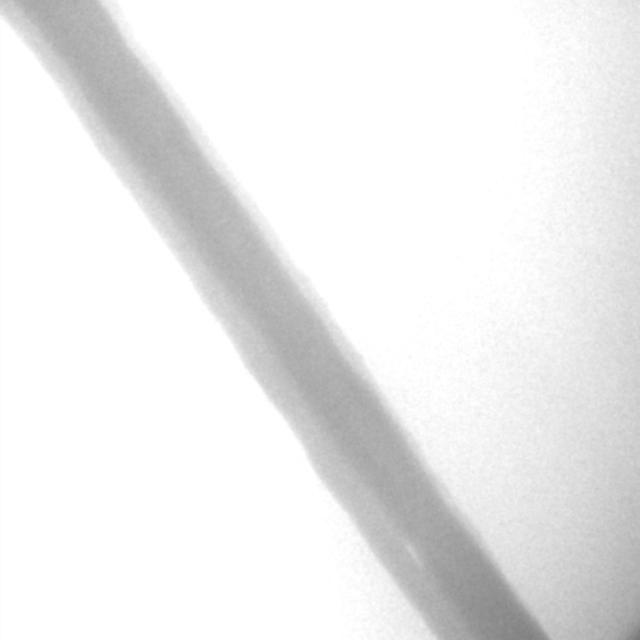air hole: (405, 542, 421, 561)
